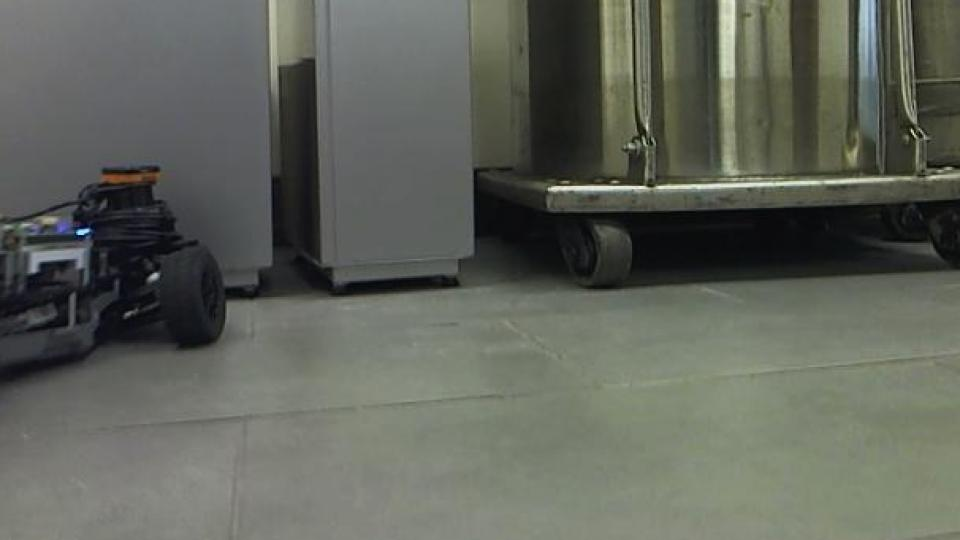car: (472, 0, 960, 291), (0, 160, 232, 422)
